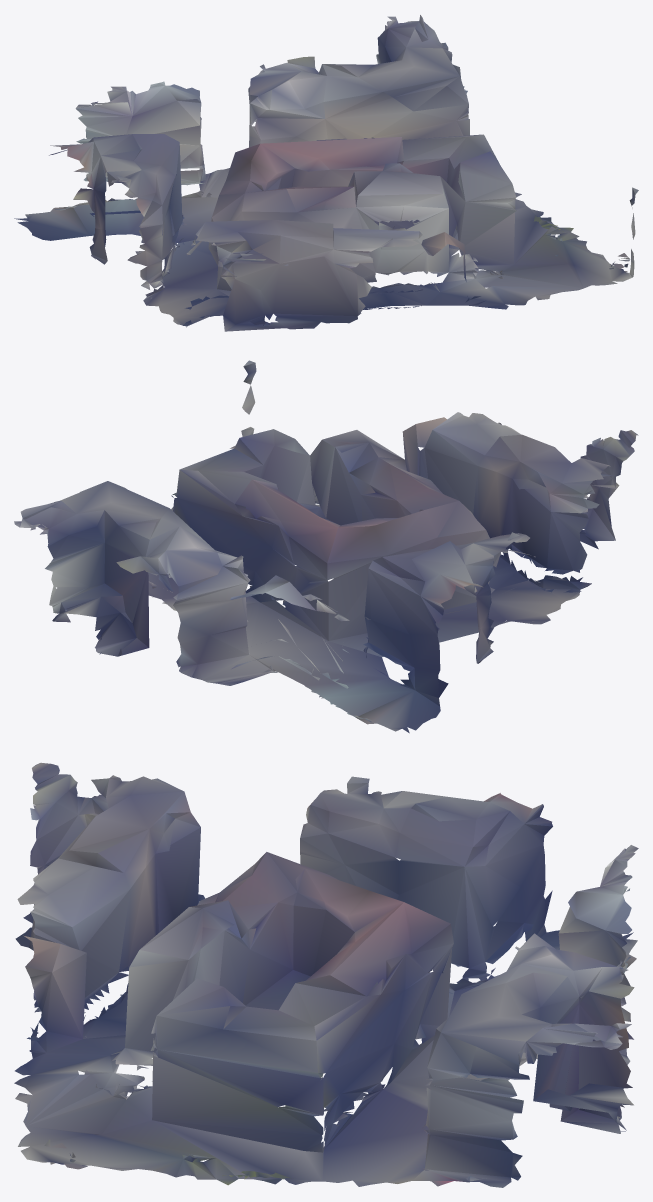
The picture shows the model from 3 angles, top to bottom: view 1: azimuth 30°, elevation 25°; view 2: azimuth 150°, elevation 25°; view 3: azimuth 270°, elevation 25°; orthographic projection. The views are drawn at different scales.
Bounding box in the file's own units: 107 × 32.26 × 107.
